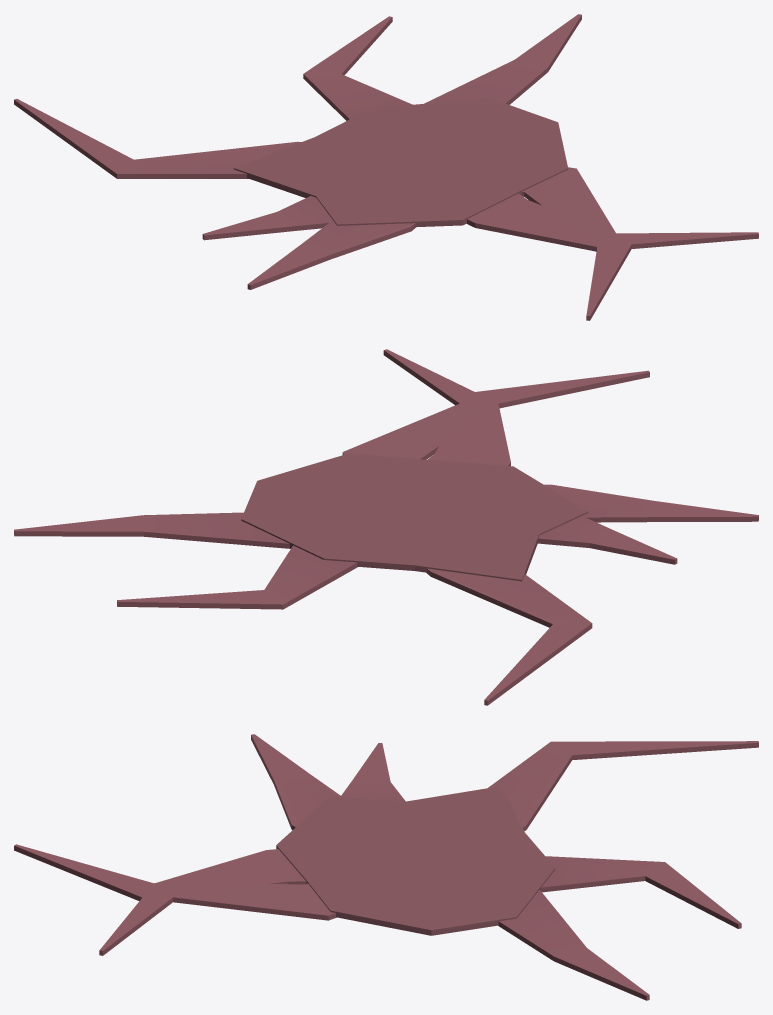
Rendered from PT_InfectionPatch.glb.
3 renders of one model, top to bottom at view 1: azimuth 30°, elevation 25°; view 2: azimuth 150°, elevation 25°; view 3: azimuth 270°, elevation 25°, orthographic. The views are drawn at different scales.
Visible parts, largest first — view 1: Body; view 2: Body; view 3: Body.
Boxes of the visible parts, left/top/right/bottom form: Body: left=14, top=14, right=758, bottom=320; Body: left=14, top=349, right=758, bottom=705; Body: left=14, top=734, right=758, bottom=1000.
Size of the model in its own units: 7.99 by 0.09 by 9.61.
